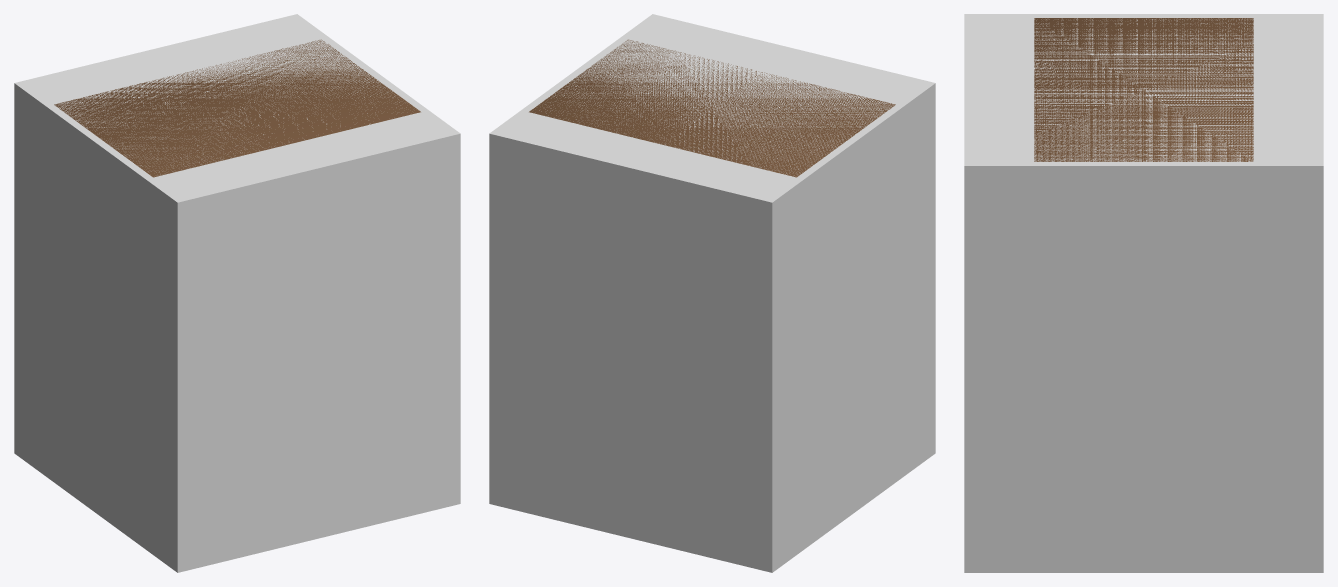
The model's file is anchor_timber_b.glb.
The picture shows the model from 3 angles, left to right: view 1: azimuth 30°, elevation 25°; view 2: azimuth 150°, elevation 25°; view 3: azimuth 270°, elevation 25°; orthographic projection. The views are drawn at different scales.
Visible parts, largest first — view 1: anchor_timber_b-col, anchor_timber_b; view 2: anchor_timber_b-col, anchor_timber_b; view 3: anchor_timber_b-col, anchor_timber_b.
Boxes of the visible parts, x1=… form: anchor_timber_b-col: x1=14, y1=14, x2=460, y2=572; anchor_timber_b: x1=54, y1=39, x2=420, y2=177; anchor_timber_b-col: x1=489, y1=14, x2=935, y2=572; anchor_timber_b: x1=529, y1=39, x2=895, y2=177; anchor_timber_b-col: x1=964, y1=14, x2=1323, y2=572; anchor_timber_b: x1=1034, y1=18, x2=1253, y2=161.
Bounding box in the file's own units: 8 × 10 × 8.
